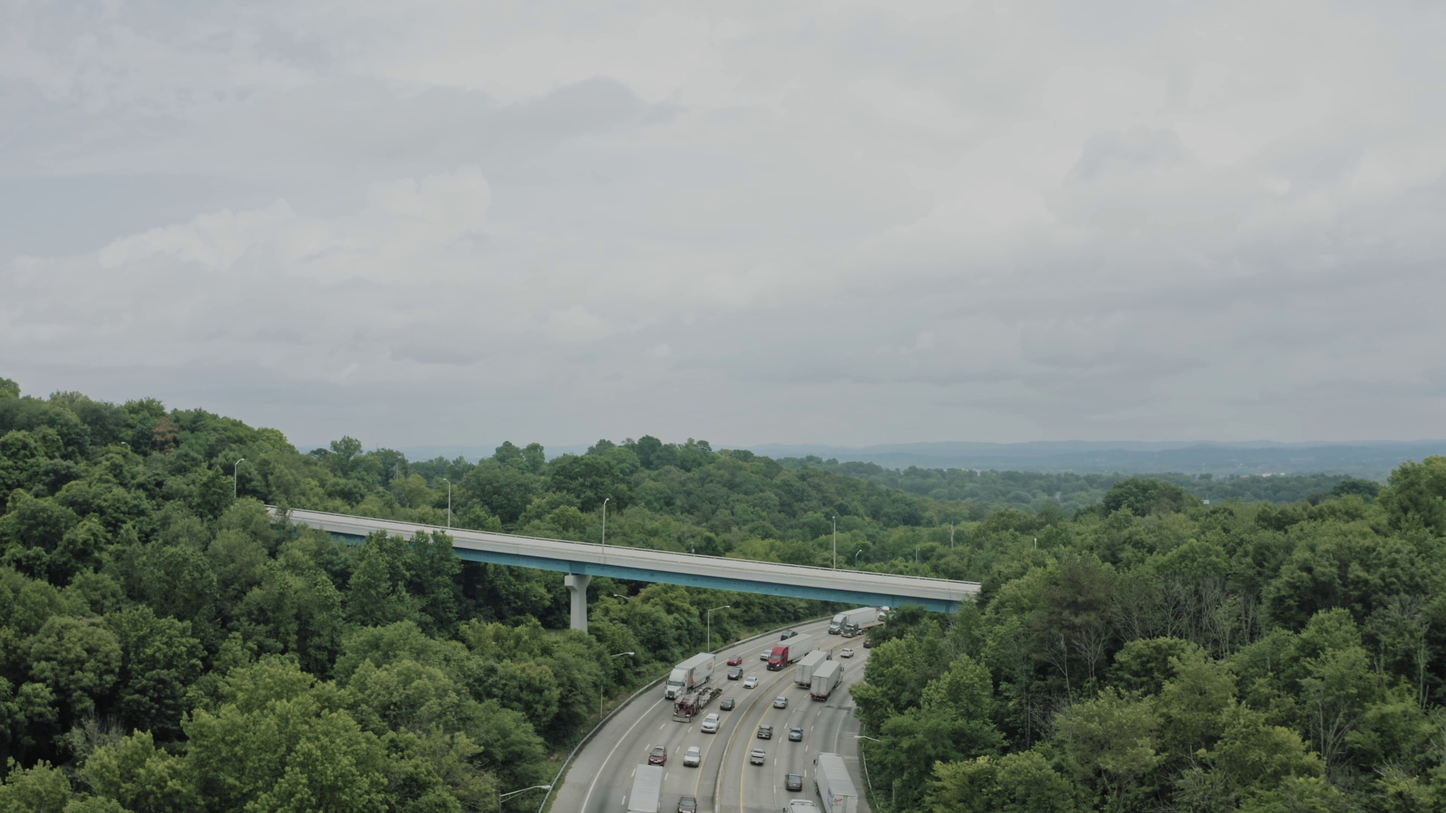Vehicle: (812, 750, 840, 787), (660, 668, 692, 700), (671, 695, 699, 726), (767, 644, 791, 674), (828, 611, 851, 637), (783, 799, 819, 813), (877, 603, 898, 624), (648, 745, 667, 767), (701, 713, 720, 734), (683, 746, 701, 767), (815, 649, 836, 666), (784, 774, 803, 792), (678, 795, 697, 813), (840, 623, 859, 638), (750, 748, 766, 765), (757, 724, 773, 740), (788, 727, 804, 742), (720, 697, 735, 711), (727, 667, 743, 680), (743, 676, 759, 689), (780, 630, 798, 641), (773, 696, 788, 709), (727, 655, 742, 666), (760, 647, 774, 658), (840, 648, 854, 658)
